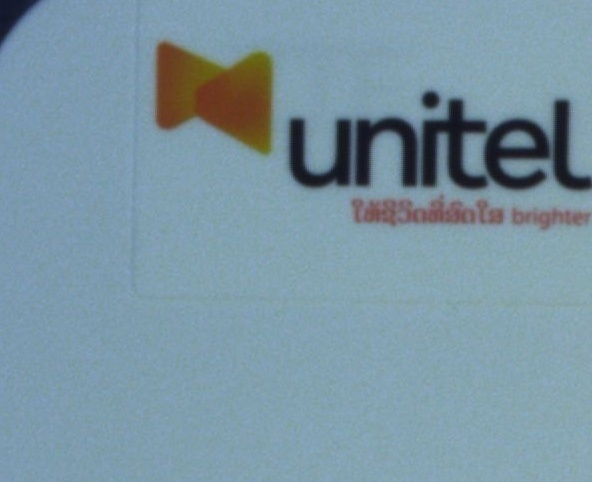BT_unitel: (150, 36, 591, 230)
